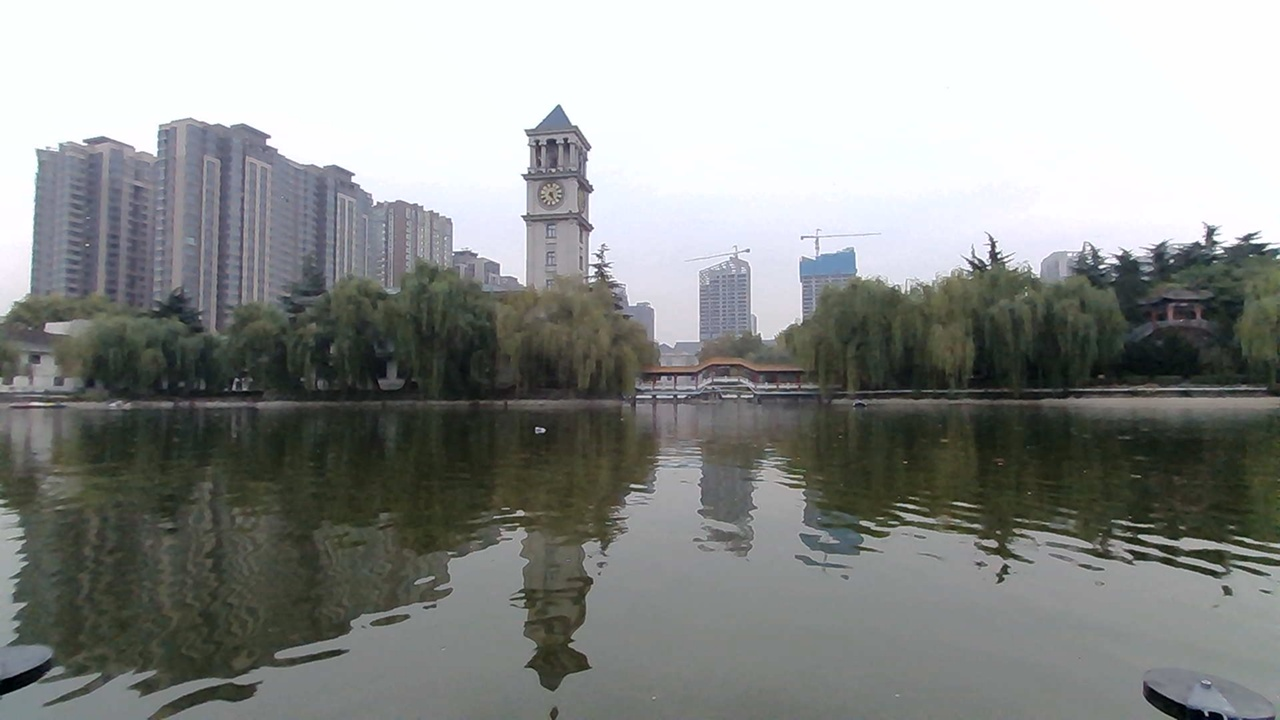bottle: (526, 421, 554, 443)
